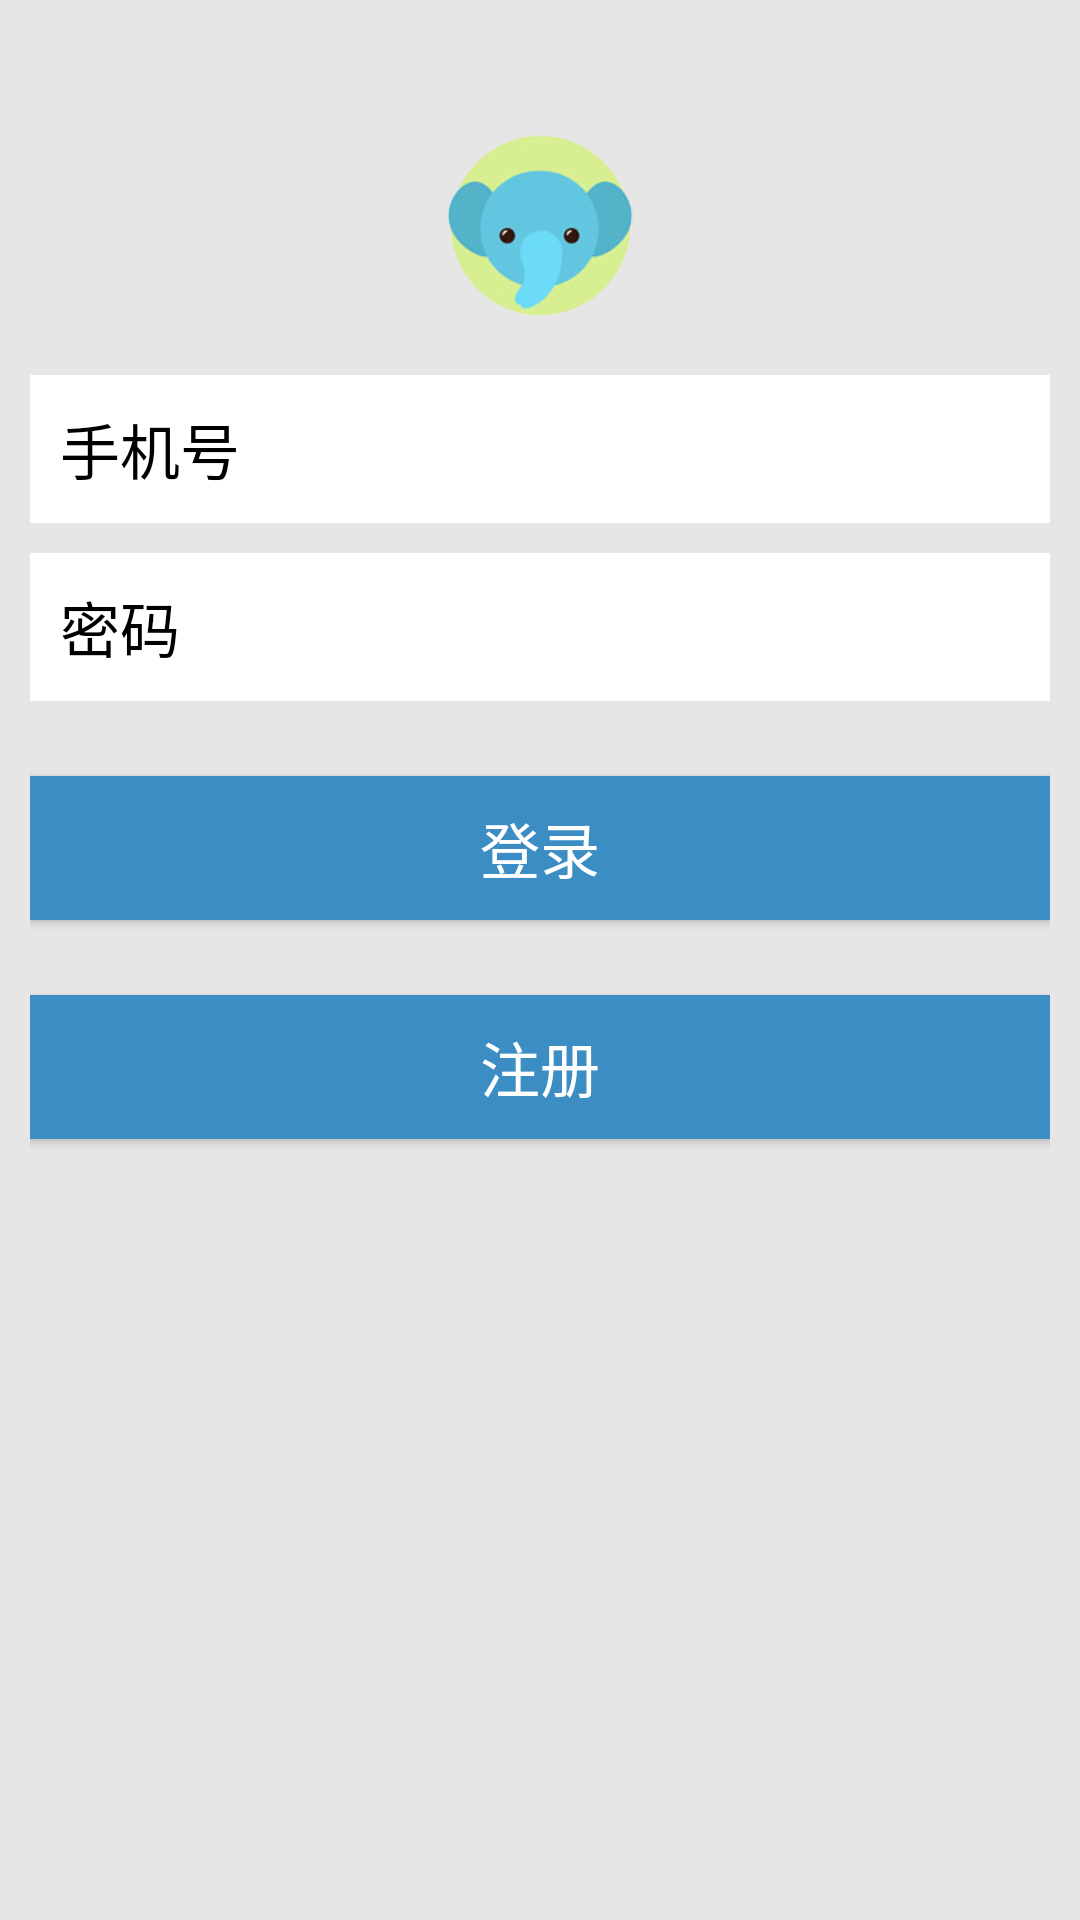

Icon click points for this 1080×1920 phone screenshot, format [x,y]:
head: [540,225]
